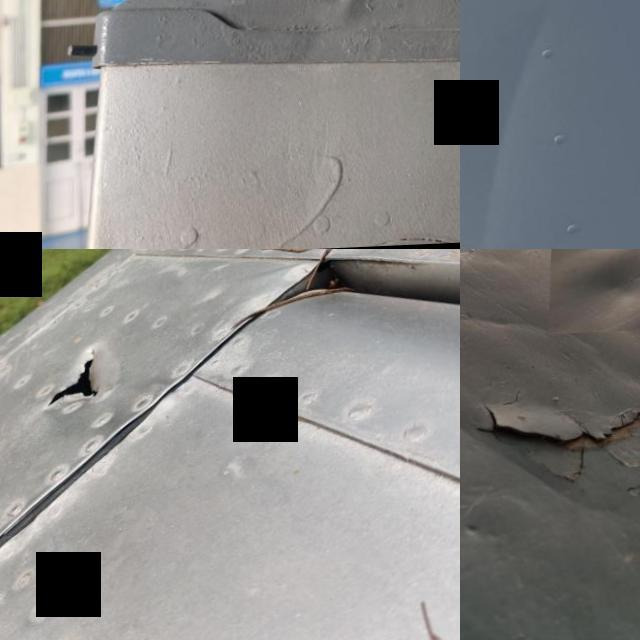Crack: (460, 381, 640, 490), (36, 339, 120, 422)
Dent: (460, 0, 624, 249), (550, 249, 640, 337), (305, 0, 365, 17), (195, 0, 249, 9)
